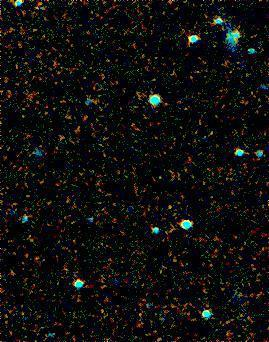star: (155, 193, 185, 223)
